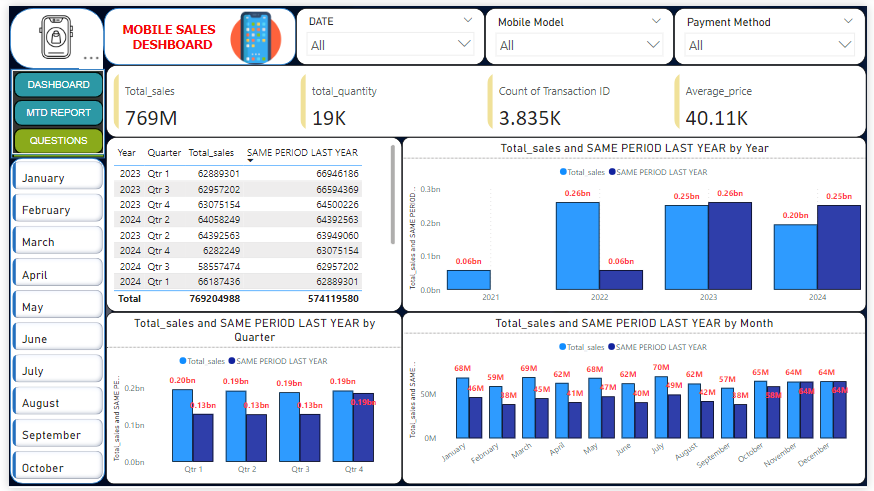

The dashboard page shown, as its layout file describes it:
{"tool":"powerbi","page":{"name":"SAME PERIOD LAST YEAR ","canvas":[1280,720],"ordinal":2},"visuals":[{"type":"shape","box":[1.4,2.8,140.3,90.7],"z":0},{"type":"image","box":[32.6,8.5,75.1,75.1],"z":1000},{"type":"shape","box":[2.8,93.5,140.3,133.2],"z":2000},{"type":"shape","box":[1.4,226.8,141.7,486.1],"z":3000},{"type":"advancedSlicerVisual","fields":{"Values":["custom_calender.date.Variation.Date Hierarchy.Month"]},"box":[0,226.8,158.7,486.1],"z":4000},{"type":"cardVisual","fields":{"Data":["sales_data.Total_sales","sales_data.total_quantity","CountNonNull(sales_data.Transaction ID)","sales_data.Average_price"]},"box":[144.6,87.9,1135.3,107.7],"z":5000},{"type":"slicer","fields":{"Values":["custom_calender.date.Variation.Date Hierarchy.Year","custom_calender.date.Variation.Date Hierarchy.Quarter"]},"box":[428,2.8,282,85],"z":6000},{"type":"slicer","fields":{"Values":["sales_data.Mobile Model"]},"box":[710.1,2.8,282,85],"z":7000},{"type":"slicer","fields":{"Values":["sales_data.Payment Method"]},"box":[992.1,2.8,286.3,85],"z":8000},{"type":"shape","box":[141.7,2.8,286.3,85],"z":9000},{"type":"image","box":[324.6,1.4,89,93.5],"z":10000},{"type":"textbox","box":[158.7,18.4,165.8,58.1],"z":11000},{"type":"tableEx","fields":{"Values":["custom_calender.date.Variation.Date Hierarchy.Year","custom_calender.date.Variation.Date Hierarchy.Quarter","sales_data.Total_sales","sales_data.SAME PERIOD LAST YEAR"]},"box":[144.6,195.6,442.2,260.8],"z":12000},{"type":"clusteredColumnChart","fields":{"Category":["custom_calender.date.Variation.Date Hierarchy.Year","custom_calender.date.Variation.Date Hierarchy.Quarter"],"Y":["sales_data.Total_sales","sales_data.SAME PERIOD LAST YEAR"]},"box":[586.8,195.6,693.1,260.8],"z":13000},{"type":"clusteredColumnChart","fields":{"Y":["sales_data.Total_sales","sales_data.SAME PERIOD LAST YEAR"],"Category":["custom_calender.date.Variation.Date Hierarchy.Year","custom_calender.date.Variation.Date Hierarchy.Quarter","custom_calender.date.Variation.Date Hierarchy.Month","custom_calender.date.Variation.Date Hierarchy.Day"]},"box":[586.8,456.4,691.7,256.5],"z":14000},{"type":"clusteredColumnChart","fields":{"Category":["custom_calender.date.Variation.Date Hierarchy.Year","custom_calender.date.Variation.Date Hierarchy.Quarter"],"Y":["sales_data.Total_sales","sales_data.SAME PERIOD LAST YEAR"]},"box":[144.6,456.4,442.2,256.5],"z":15000},{"type":"pageNavigator","box":[4.3,95,137.5,126.1],"z":16000}]}

Visuals, with their boxes in screenshot pixels (x1, y1, x2, y2), scaled from the page's 1280x720 canvas onto the 874x491 screenshot:
shape: 1,2,97,64
image: 22,6,74,57
shape: 2,64,98,155
shape: 1,155,98,486
advancedSlicerVisual - custom_calender.date.Variation.Date Hierarchy.Month: 0,155,108,486
cardVisual - sales_data.Total_sales x sales_data.total_quantity: 99,60,873,133
slicer - custom_calender.date.Variation.Date Hierarchy.Year x custom_calender.date.Variation.Date Hierarchy.Quarter: 292,2,485,60
slicer - sales_data.Mobile Model: 485,2,677,60
slicer - sales_data.Payment Method: 677,2,873,60
shape: 97,2,292,60
image: 222,1,282,65
textbox: 108,13,222,52
tableEx - custom_calender.date.Variation.Date Hierarchy.Year x custom_calender.date.Variation.Date Hierarchy.Quarter: 99,133,401,311
clusteredColumnChart - custom_calender.date.Variation.Date Hierarchy.Year x custom_calender.date.Variation.Date Hierarchy.Quarter: 401,133,873,311
clusteredColumnChart - sales_data.Total_sales x sales_data.SAME PERIOD LAST YEAR: 401,311,873,486
clusteredColumnChart - custom_calender.date.Variation.Date Hierarchy.Year x custom_calender.date.Variation.Date Hierarchy.Quarter: 99,311,401,486
pageNavigator: 3,65,97,151
